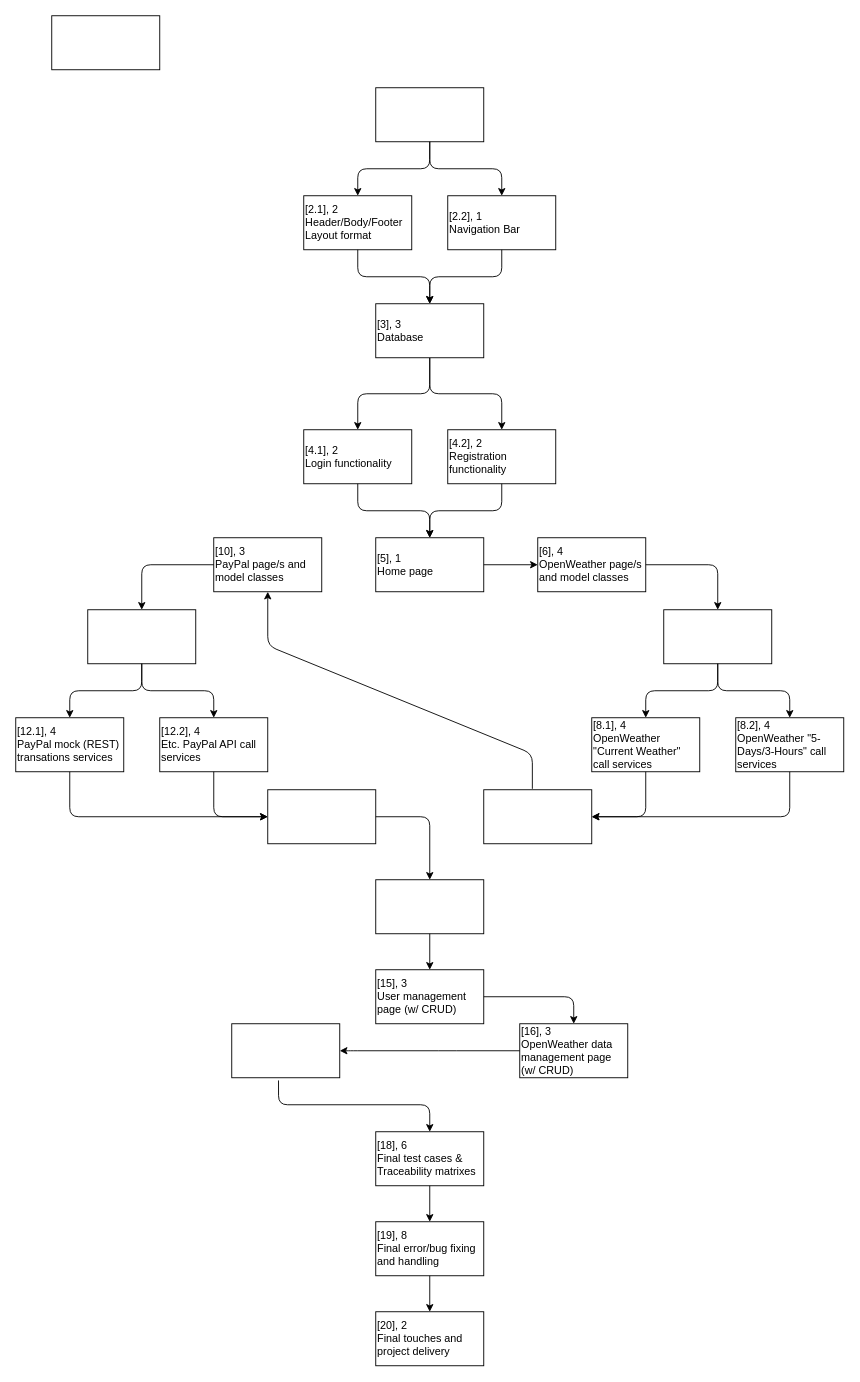
The diagram is 860 pixels wide and 1382 high, and some of its shapes have lost their labels. The box of each missing label's shape, as (x1, y1, x2, y2) in pixels:
[11], 2 PayPal Data Validation: (87, 609, 196, 664)
[13], 4 PayPal API & REST API response page/s: (267, 789, 376, 844)
[14], 3 Admin role functionality/checks.: (375, 879, 484, 934)
[17], 4 PayPal transaction management page (w/ CRUD): (231, 1023, 340, 1078)
[1], 2 Environment Setup: (375, 87, 484, 142)
[7], 1 OpenWeather Data Validation: (663, 609, 772, 664)
[9], 2 OpenWeather API response page: (483, 789, 592, 844)
[Order] , [Hours] [Task]: (51, 15, 160, 70)
